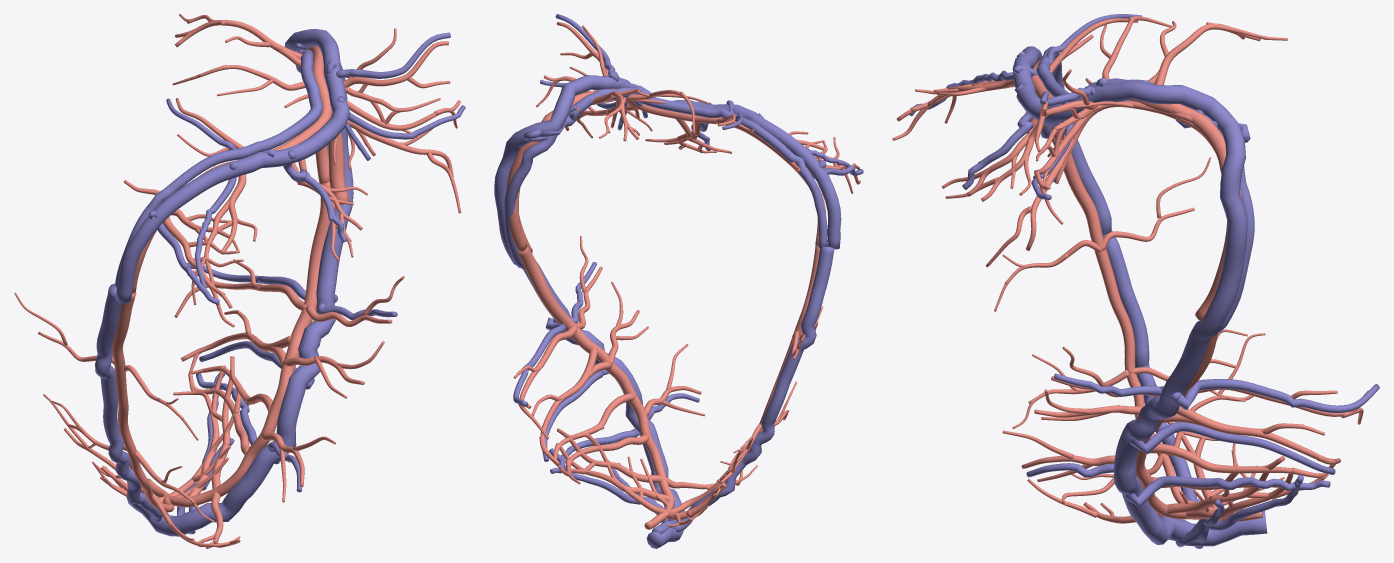
The model's file is vessels_60.glb.
3 views of the same model, side by side, from view 1: azimuth 30°, elevation 25°; view 2: azimuth 150°, elevation 25°; view 3: azimuth 270°, elevation 25° (orthographic). The views are drawn at different scales.
Parts seen in each view (by area): view 1: Renderer Node; view 2: Renderer Node; view 3: Renderer Node.
Boxes of the visible parts, bbox=[...] form: Renderer Node: bbox=[14, 14, 465, 548]; Renderer Node: bbox=[494, 14, 863, 548]; Renderer Node: bbox=[892, 14, 1379, 548].
Size of the model in its own units: 94.95 by 123 by 95.53.
